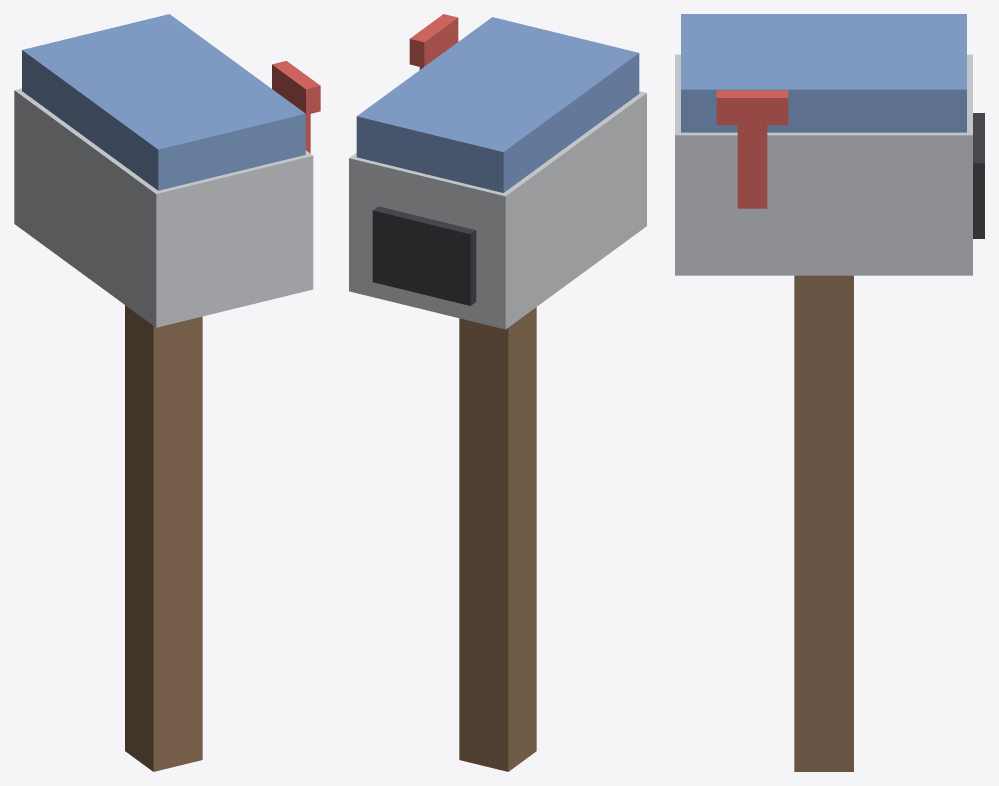
File: mailbox_street.glb
The picture shows the model from 3 angles, left to right: view 1: azimuth 30°, elevation 25°; view 2: azimuth 150°, elevation 25°; view 3: azimuth 270°, elevation 25°; orthographic projection. The views are drawn at different scales.
Parts seen in each view (by area): view 1: mailbox, flag; view 2: mailbox, flag; view 3: mailbox, flag.
Boxes of the visible parts, <box> form: mailbox: <box>14,14,313,771</box>; flag: <box>272,61,320,153</box>; mailbox: <box>349,17,646,771</box>; flag: <box>409,14,458,69</box>; mailbox: <box>675,14,984,771</box>; flag: <box>716,90,788,208</box>.
Bounding box in the file's own units: 0.375 × 1.33 × 0.52.
